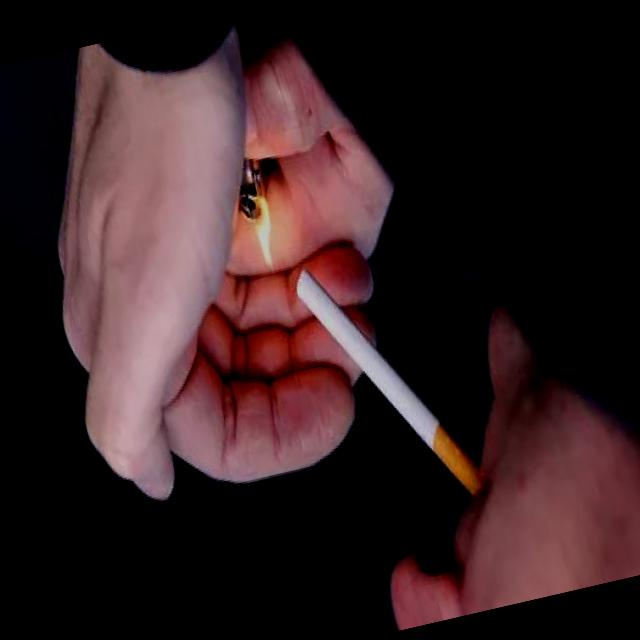smoke: (284, 231, 494, 533)
